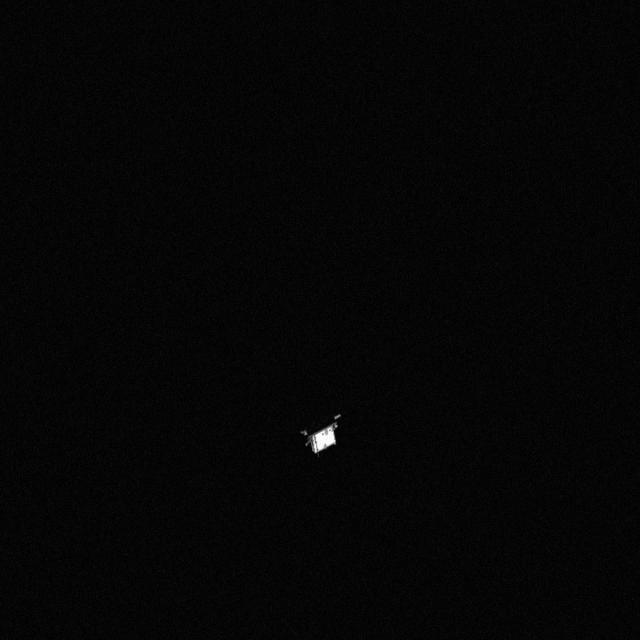medium_debris: (292, 410, 360, 464)
